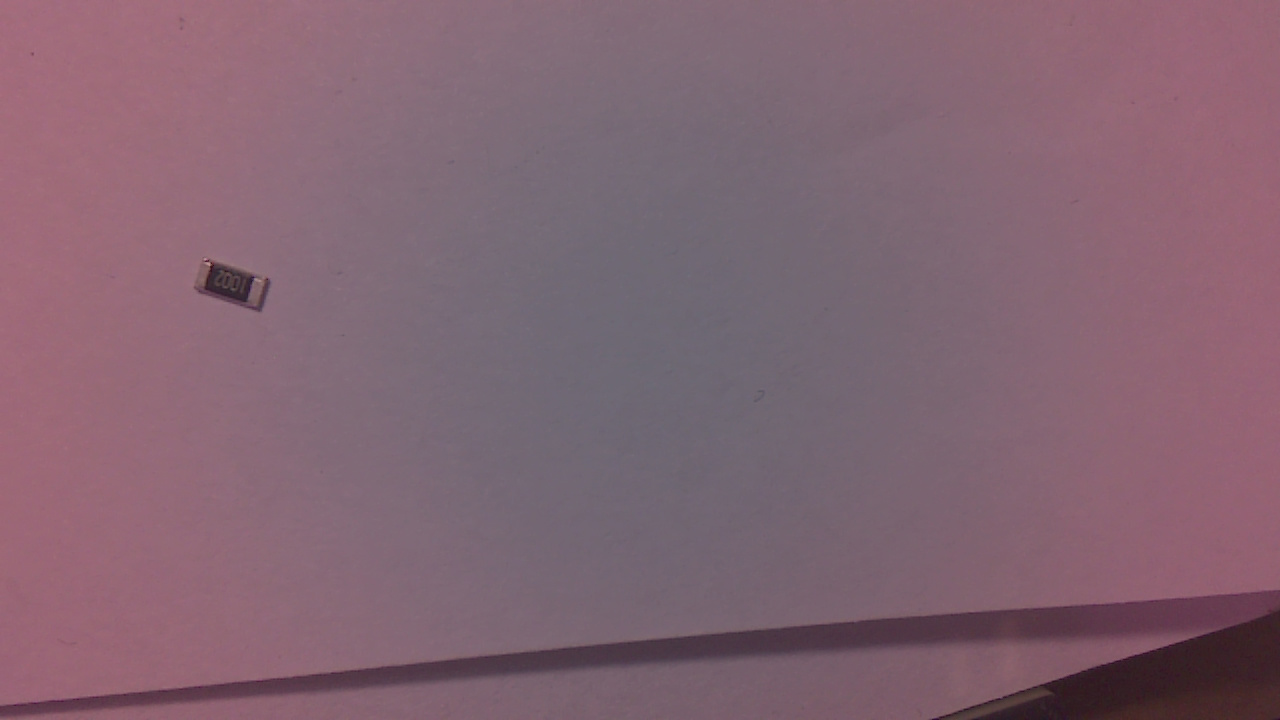Resistor: (200, 258, 279, 317)
